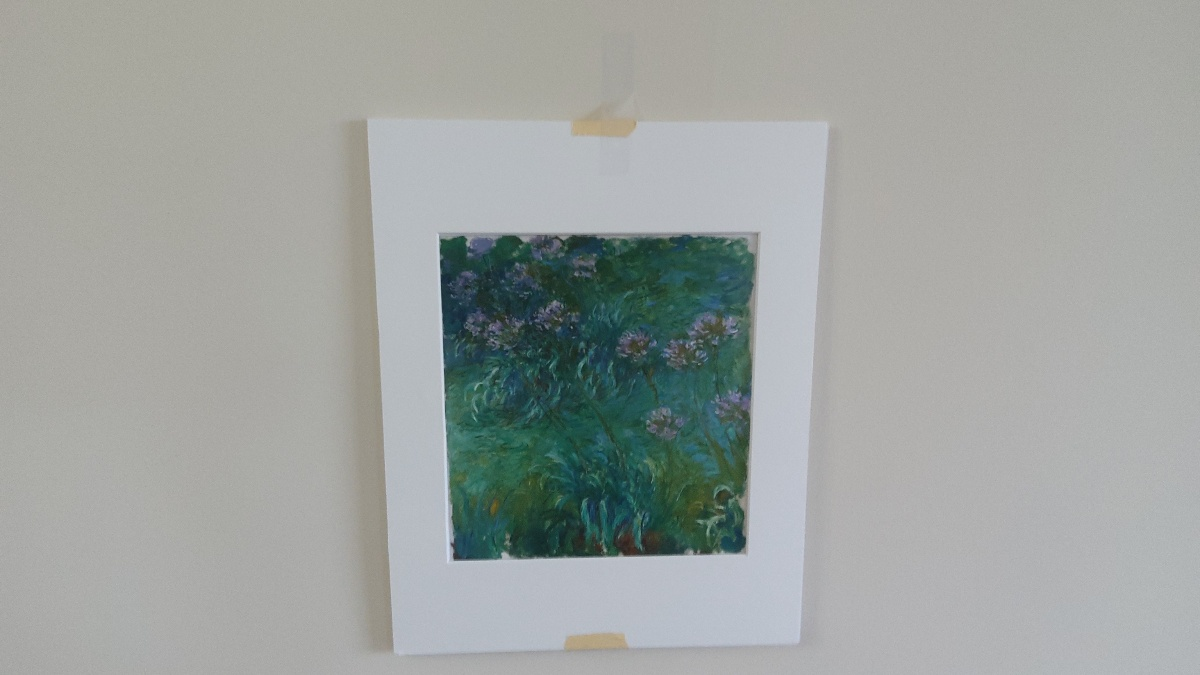painting: (437, 226, 755, 573)
